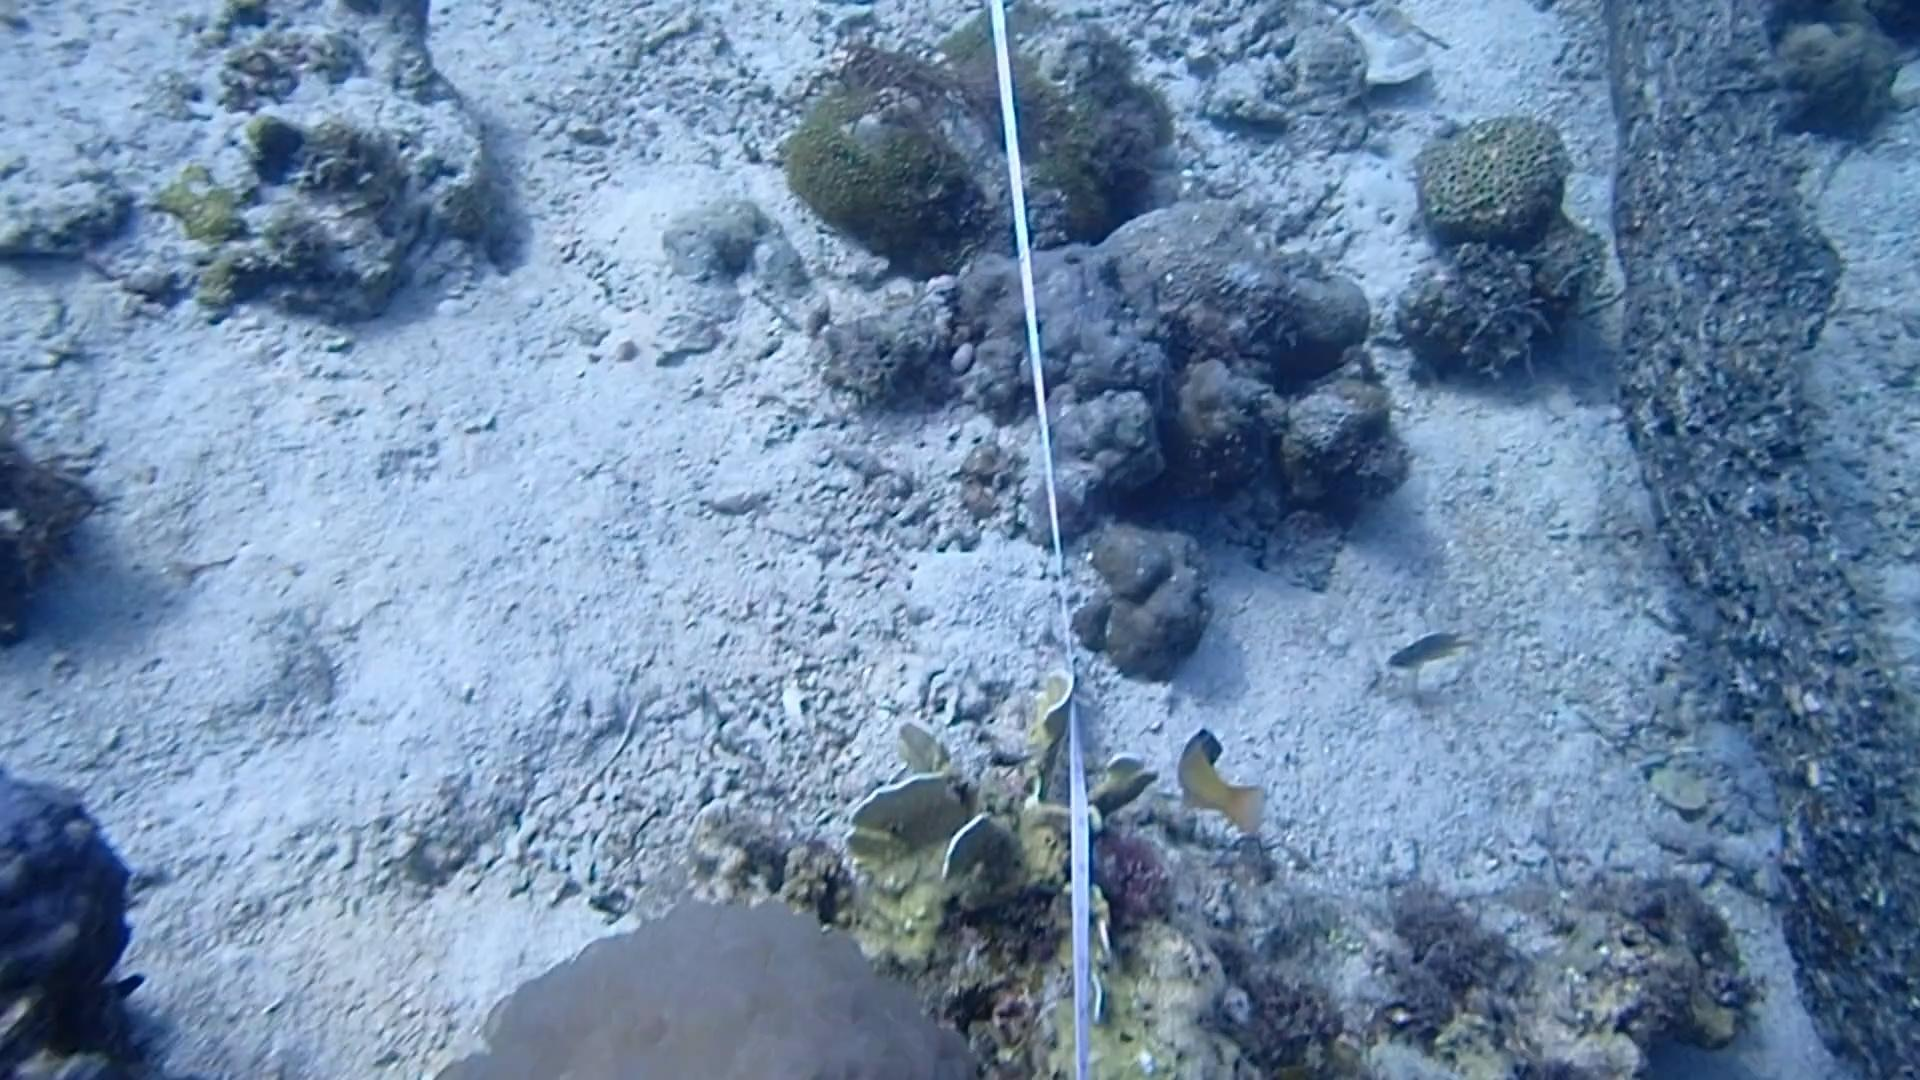Light Fish: (1375, 613, 1485, 684)
Yellow-Blue Fish: (1156, 720, 1280, 840)
